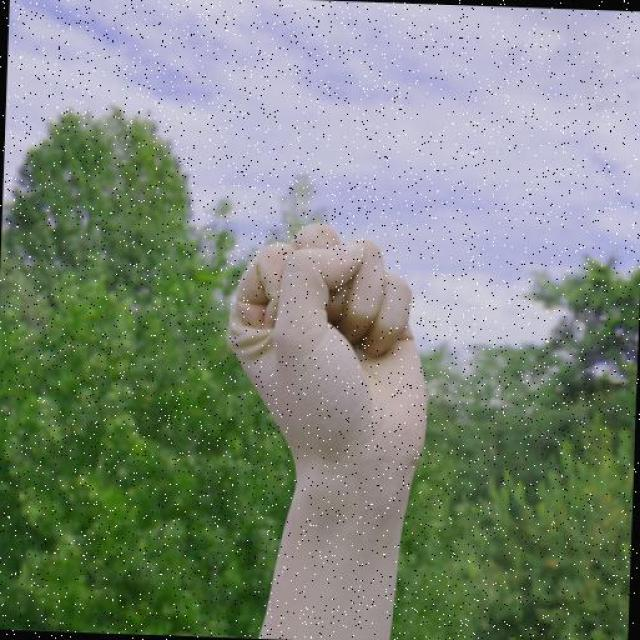S: (223, 217, 441, 468)
